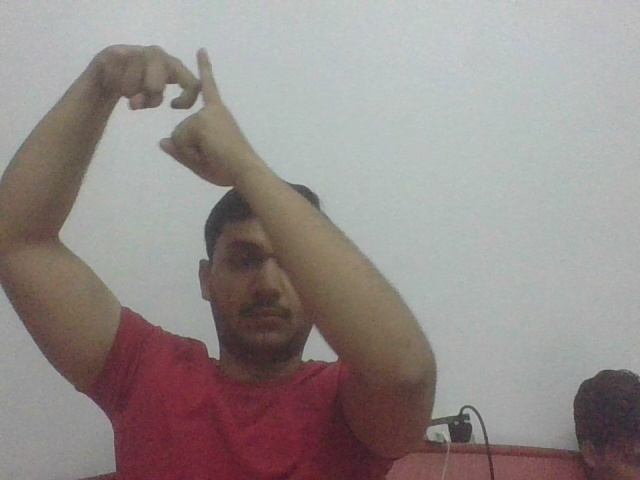K: (156, 42, 230, 130)
